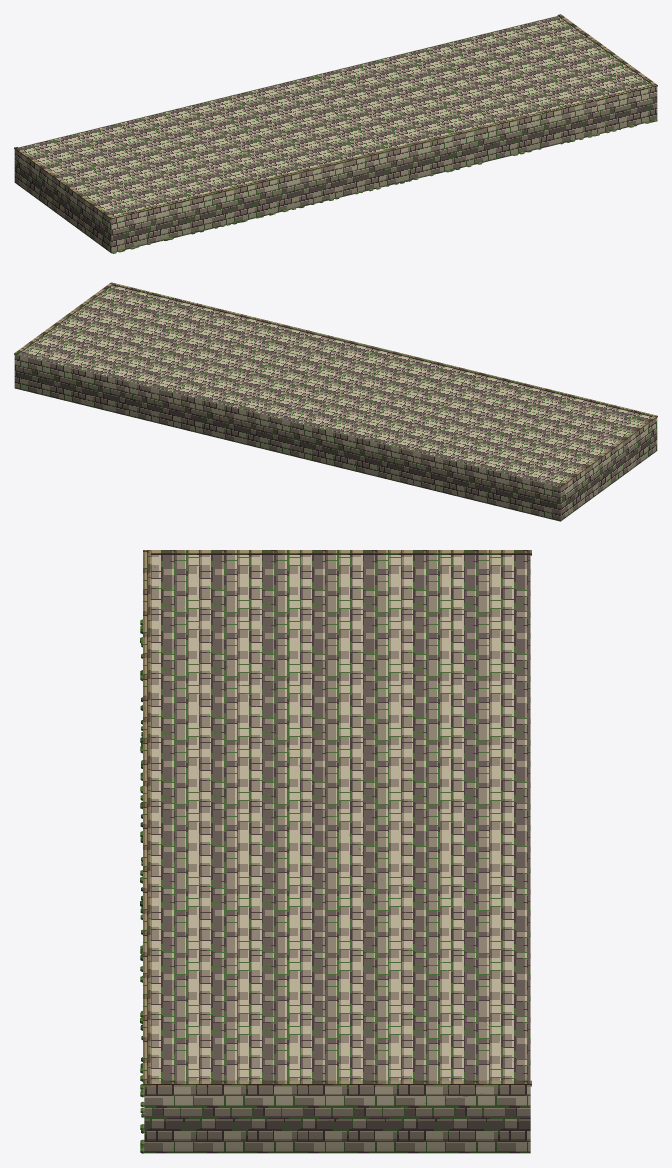
Rendered from scene_wall_n.glb.
The picture shows the model from 3 angles, top to bottom: view 1: azimuth 30°, elevation 25°; view 2: azimuth 150°, elevation 25°; view 3: azimuth 270°, elevation 25°; orthographic projection. The views are drawn at different scales.
Visible parts, largest first — view 1: scene_wall_n; view 2: scene_wall_n; view 3: scene_wall_n.
Boxes of the visible parts, x1,y1,x2,y2 form: scene_wall_n: [14, 14, 657, 253]; scene_wall_n: [14, 282, 657, 521]; scene_wall_n: [140, 550, 531, 1153].
Bounding box in the file's own units: 60.1 × 3.77 × 18.64.
Materials: 2 (1 with a texture image).
